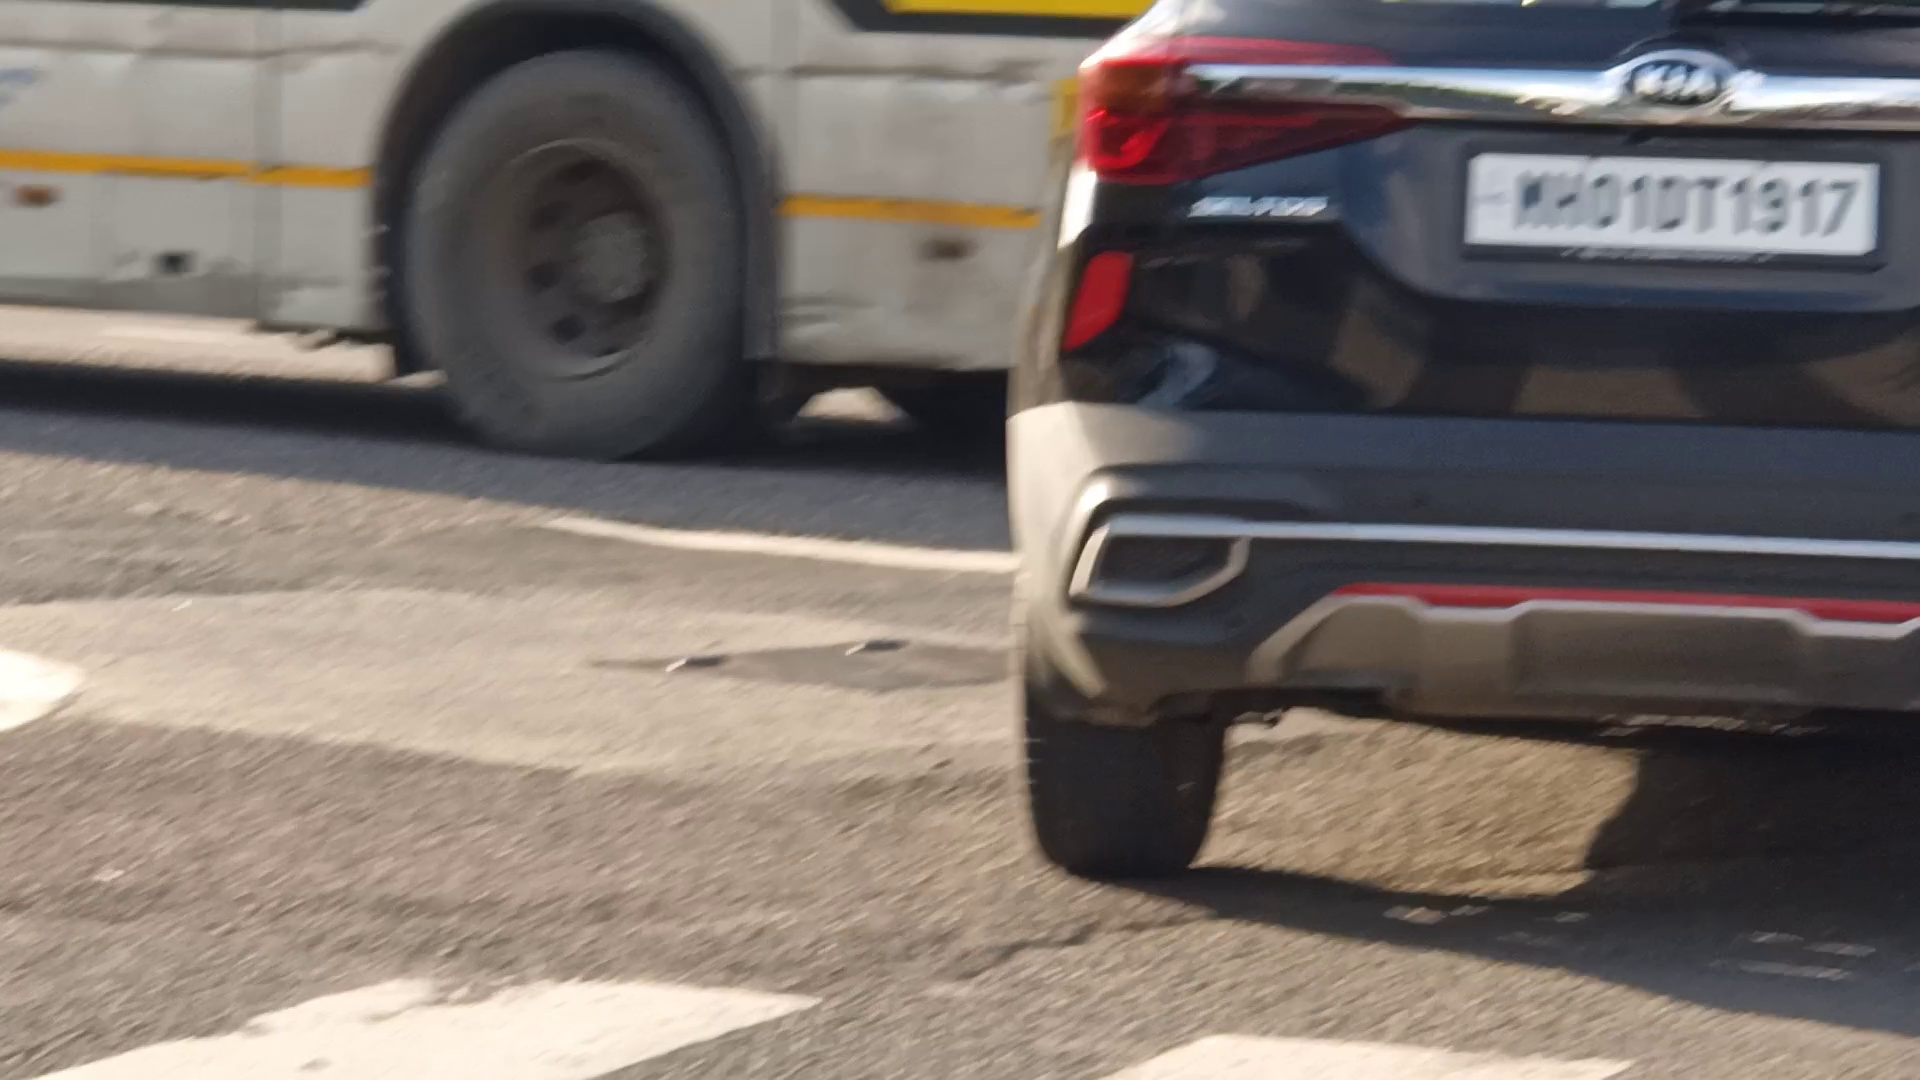MH01DT1917: (1463, 147, 1878, 254)
